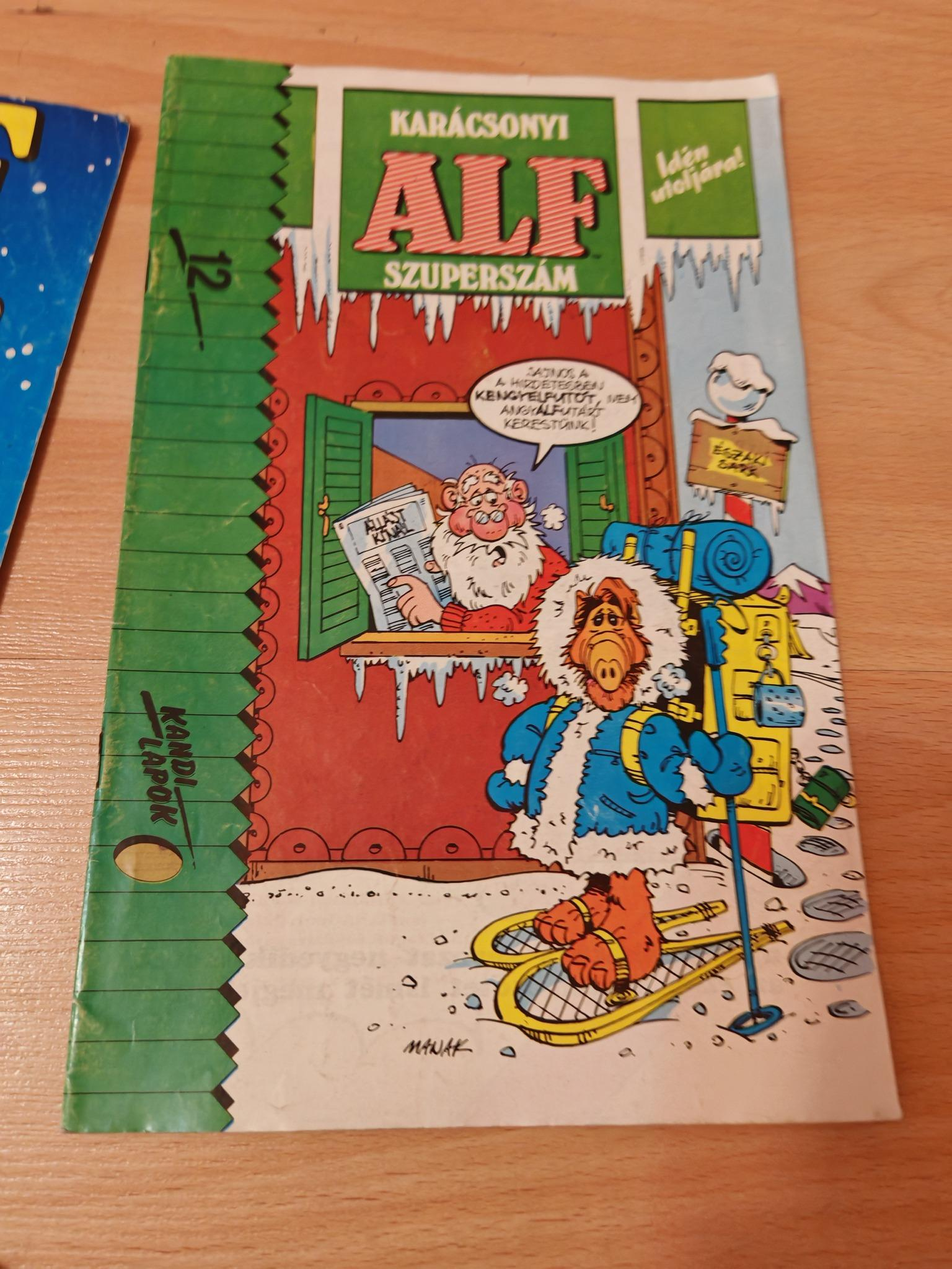comic: (64, 59, 898, 1130)
